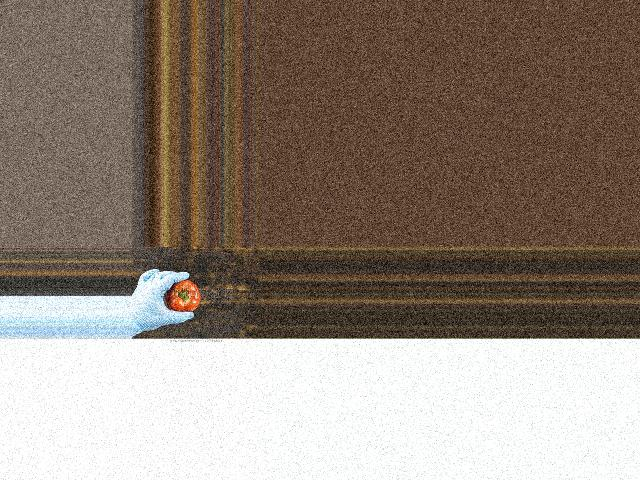tomato: (165, 280, 201, 312)
